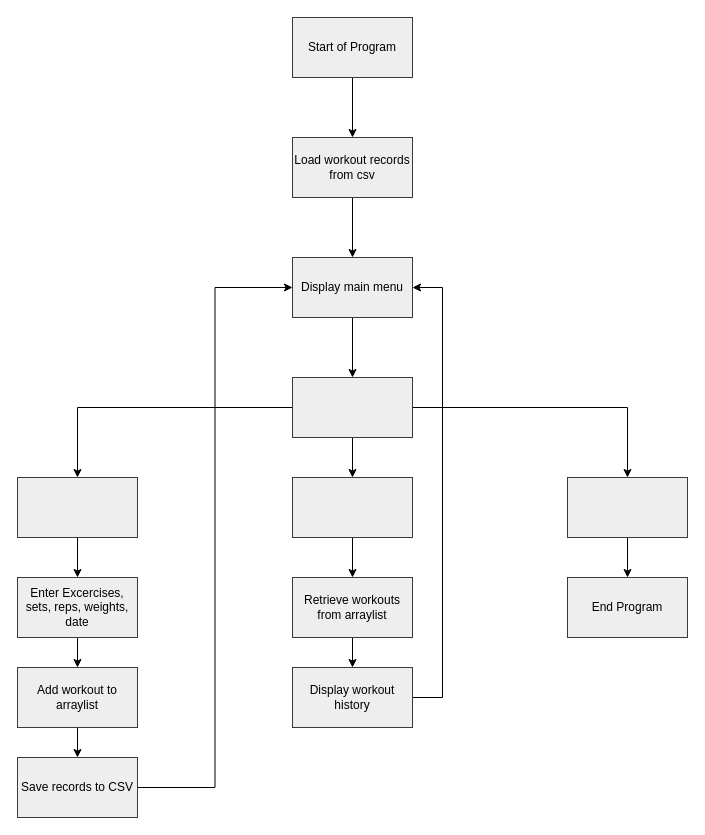
Image size: 705x835. Some labels were removed from this diagram. Each missing label, with the centre of its shape:
"Exit" goes at (627,507).
"Log Workout" goes at (77,507).
"User Choice" goes at (352,407).
"View History" goes at (352,507).
